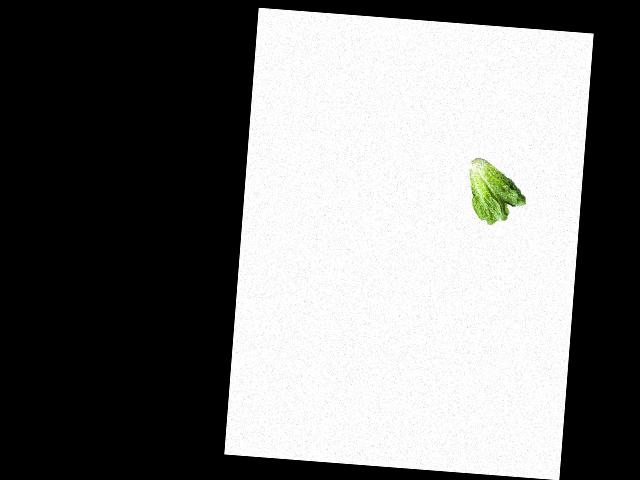lettuce: (460, 153, 531, 227)
